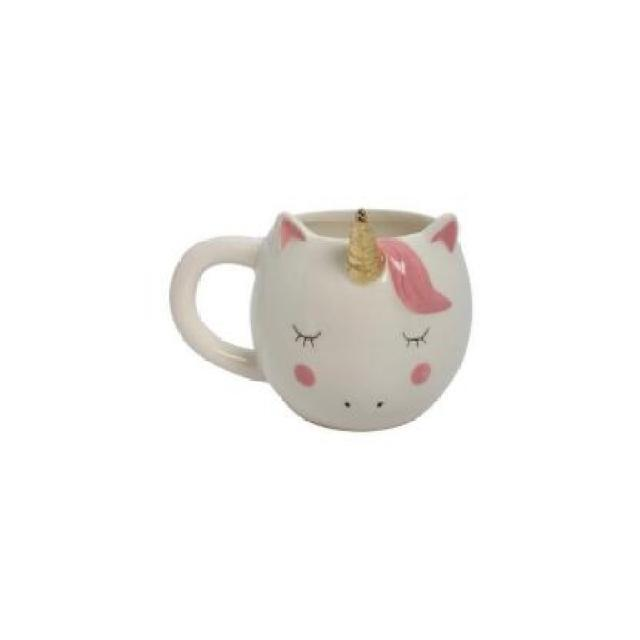taza: (171, 208, 472, 431)
